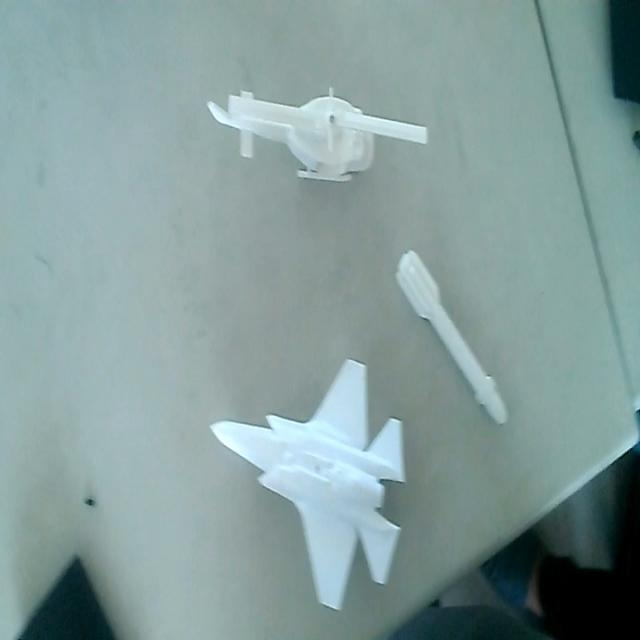Helicopter: (205, 70, 428, 196)
Jet: (212, 349, 408, 615)
Rocket: (394, 240, 509, 437)
